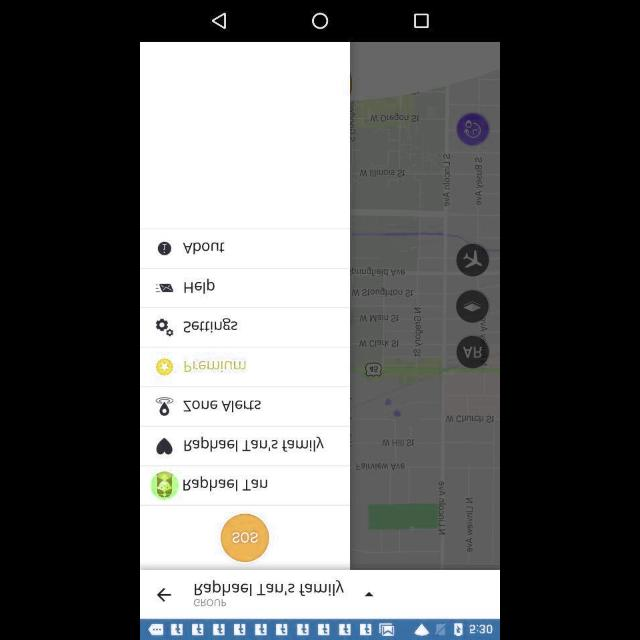icon: (220, 513, 270, 563), (454, 287, 490, 325), (457, 334, 488, 370), (457, 112, 491, 144), (456, 244, 488, 276), (150, 471, 178, 501), (155, 395, 177, 419), (153, 585, 177, 605), (156, 316, 178, 336), (155, 437, 175, 458), (153, 280, 174, 298), (156, 358, 174, 377), (310, 12, 328, 30), (210, 14, 230, 28), (158, 240, 174, 256), (414, 14, 431, 28), (364, 588, 376, 602)
map: (350, 43, 500, 569)
panel: (141, 43, 349, 569), (141, 1, 499, 41)
text: (192, 578, 348, 596), (194, 598, 228, 606)
textbutton: (180, 433, 328, 455), (183, 396, 263, 416), (183, 476, 267, 492), (184, 356, 250, 374), (180, 316, 236, 334), (184, 238, 230, 256), (182, 278, 218, 296)
toolbar: (140, 570, 500, 618)
uppertaskbar: (142, 620, 500, 640)
